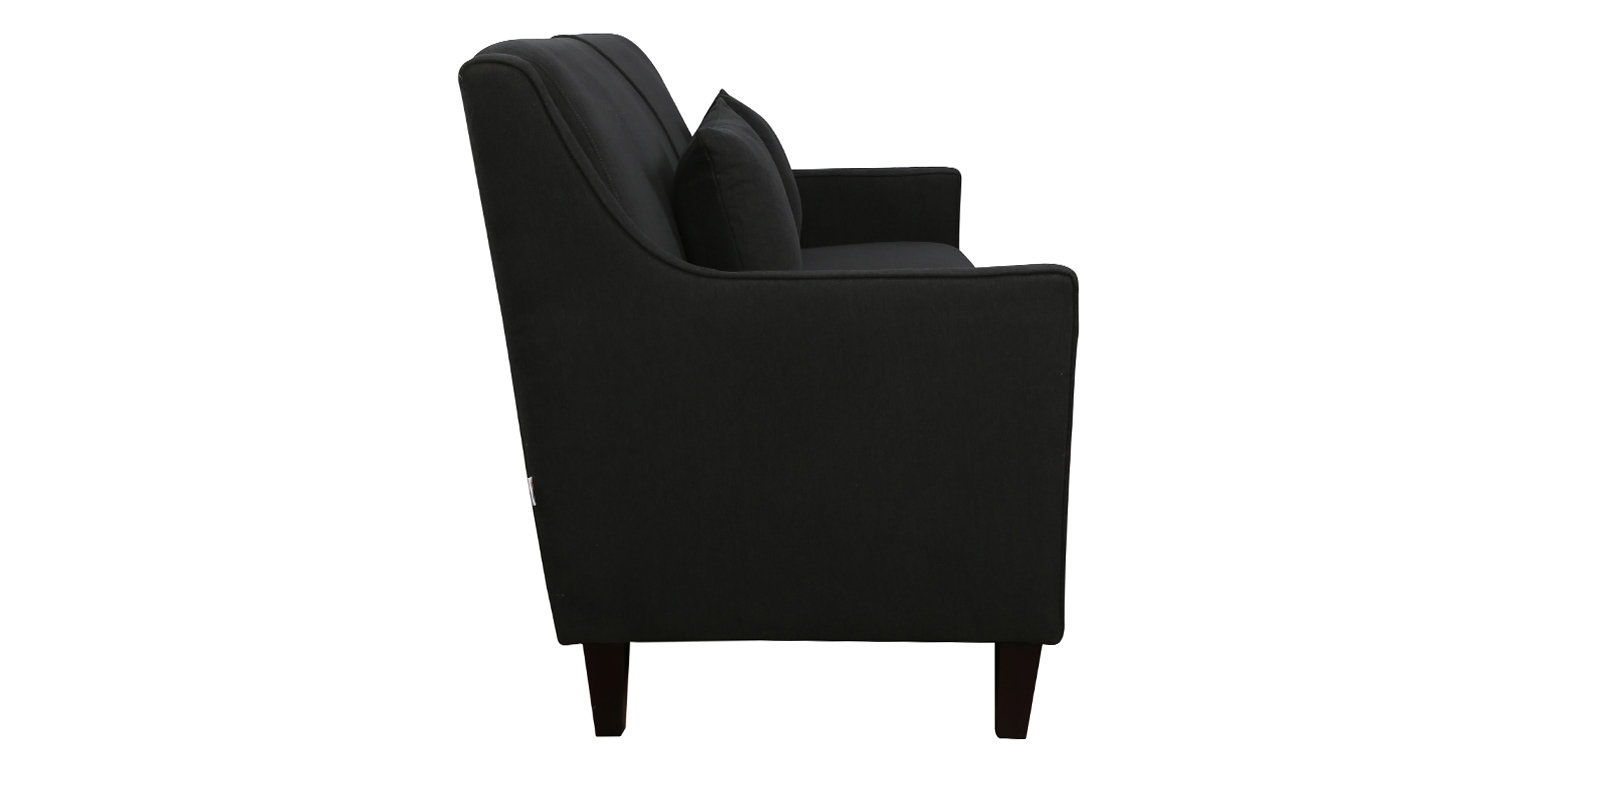Oscar Three Seater Sofa in Charcoal Grey Colour by CasaCraft: (456, 31, 1082, 741)
